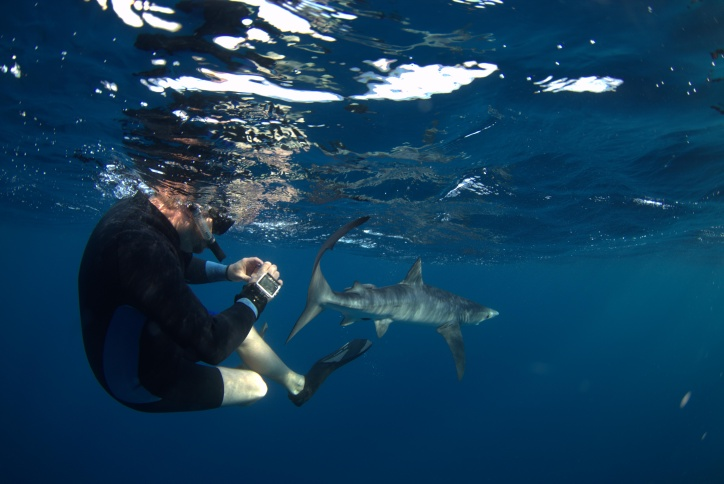Azul: (284, 202, 526, 389)
